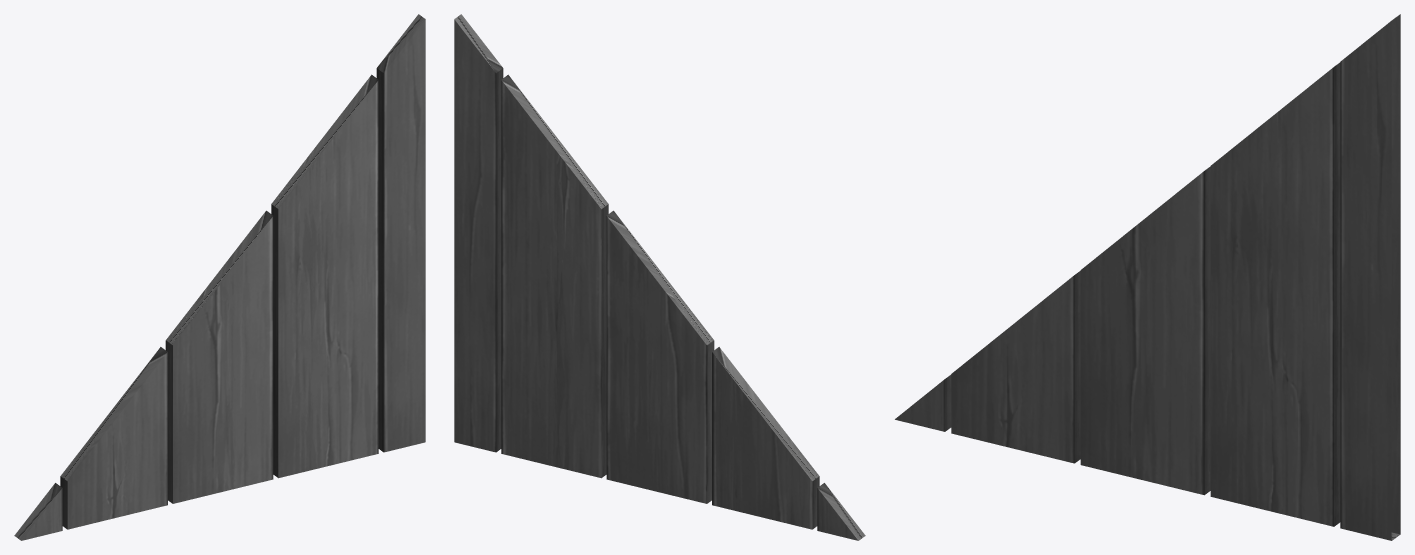
File: WallPlankTriangle01.fbx
3 renders of one model, left to right at view 1: azimuth 30°, elevation 25°; view 2: azimuth 150°, elevation 25°; view 3: azimuth 330°, elevation 25°, orthographic. The views are drawn at different scales.
Parts seen in each view (by area): view 1: WallPlankTriangle01_LOD0; view 2: WallPlankTriangle01_LOD0; view 3: WallPlankTriangle01_LOD0.
Boxes of the visible parts, box(x1,y1,x2,y2) form: WallPlankTriangle01_LOD0: box(14, 14, 425, 540); WallPlankTriangle01_LOD0: box(454, 14, 865, 540); WallPlankTriangle01_LOD0: box(895, 14, 1400, 540).
Size of what is drawn, in the model's own units: 1 by 1 by 0.0306.
